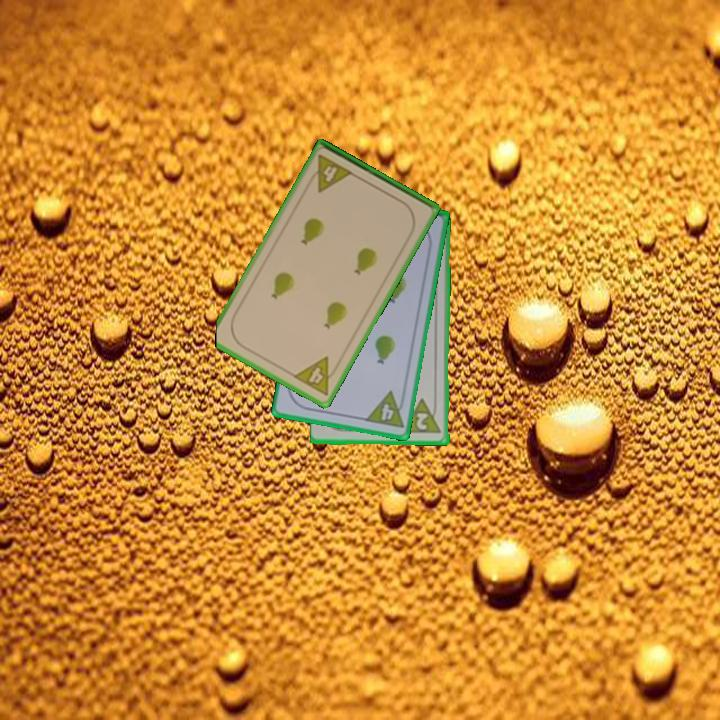2p: (413, 409, 431, 432)
4p: (290, 353, 343, 399), (304, 151, 356, 195), (362, 388, 409, 431)
